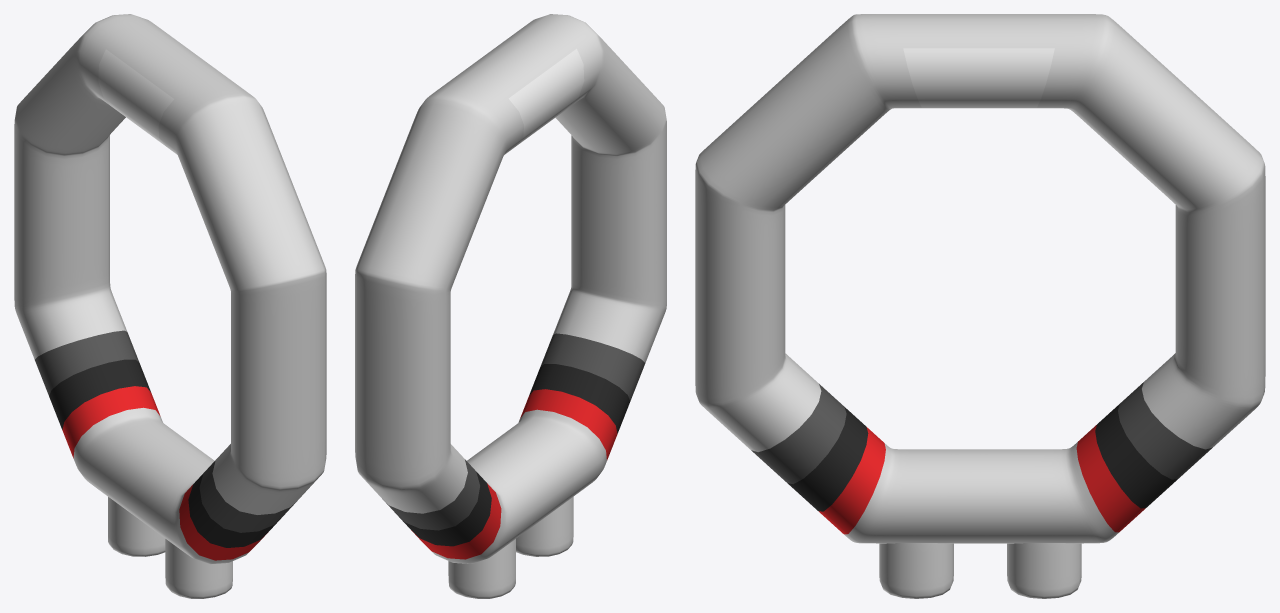
File: pneumatic_polygon.fbx
The picture shows the model from 3 angles, left to right: view 1: azimuth 30°, elevation 25°; view 2: azimuth 150°, elevation 25°; view 3: azimuth 270°, elevation 25°; orthographic projection. The views are drawn at different scales.
Visible parts, largest first — view 1: Куб, Куб.001; view 2: Куб, Куб.001; view 3: Куб, Куб.001.
Boxes of the visible parts, x1,y1,x2,y2 form: Куб: (14,14,326,564); Куб.001: (108,497,232,598); Куб: (355,14,666,563); Куб.001: (448,497,573,598); Куб: (695,14,1265,543); Куб.001: (879,543,1081,598).
Bounding box in the file's own units: 225 × 1282 × 1173.
